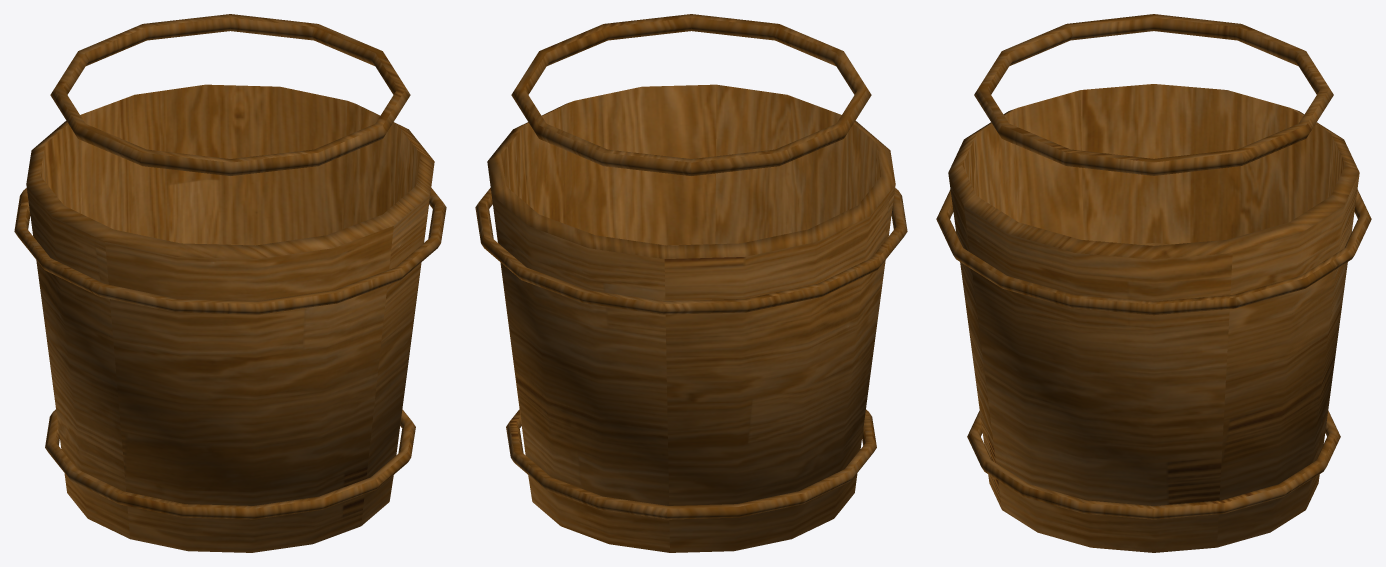
File: bucket.fbx
3 views of the same model, side by side, from view 1: azimuth 30°, elevation 25°; view 2: azimuth 150°, elevation 25°; view 3: azimuth 270°, elevation 25° (orthographic).
Visible parts, largest first — view 1: bucket; view 2: bucket; view 3: bucket.
Part boxes in pixels (x1,y1,x2,y2): bucket: (14, 14, 446, 552); bucket: (475, 14, 907, 552); bucket: (936, 14, 1371, 552).
Size of the model in its own units: 0.254 by 0.2543 by 0.254.
Materials: 1 (1 with a texture image).
